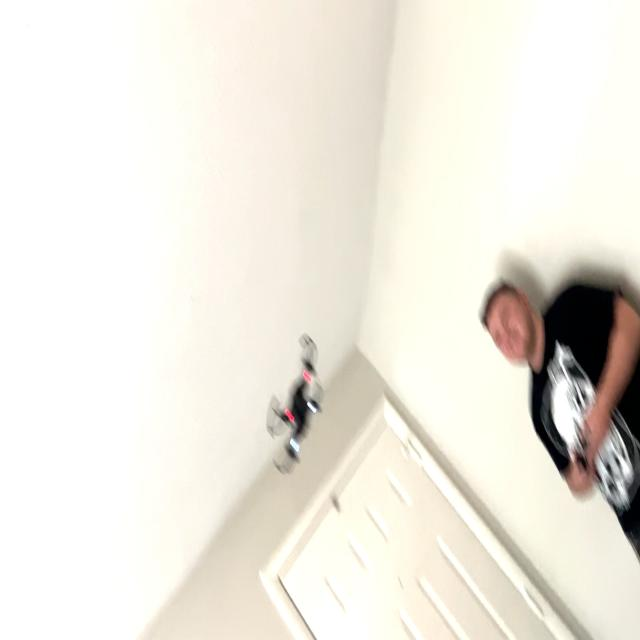drone: (262, 322, 336, 489)
